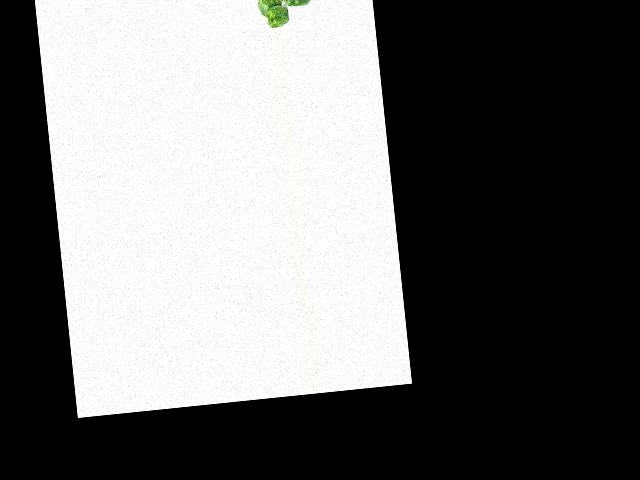bell_pepper: (265, 2, 292, 28)
